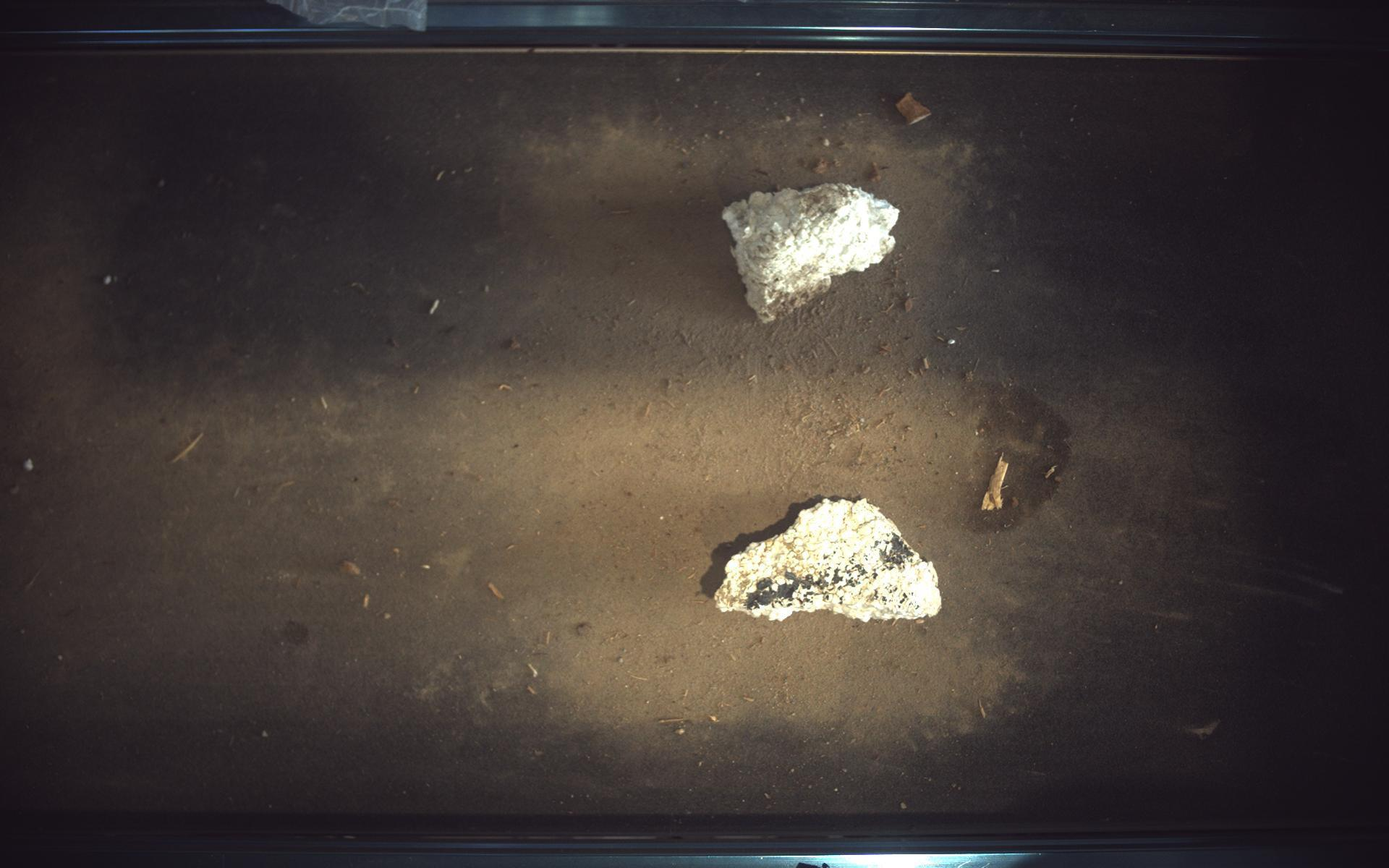foam: (715, 499, 943, 622), (723, 182, 900, 323)
